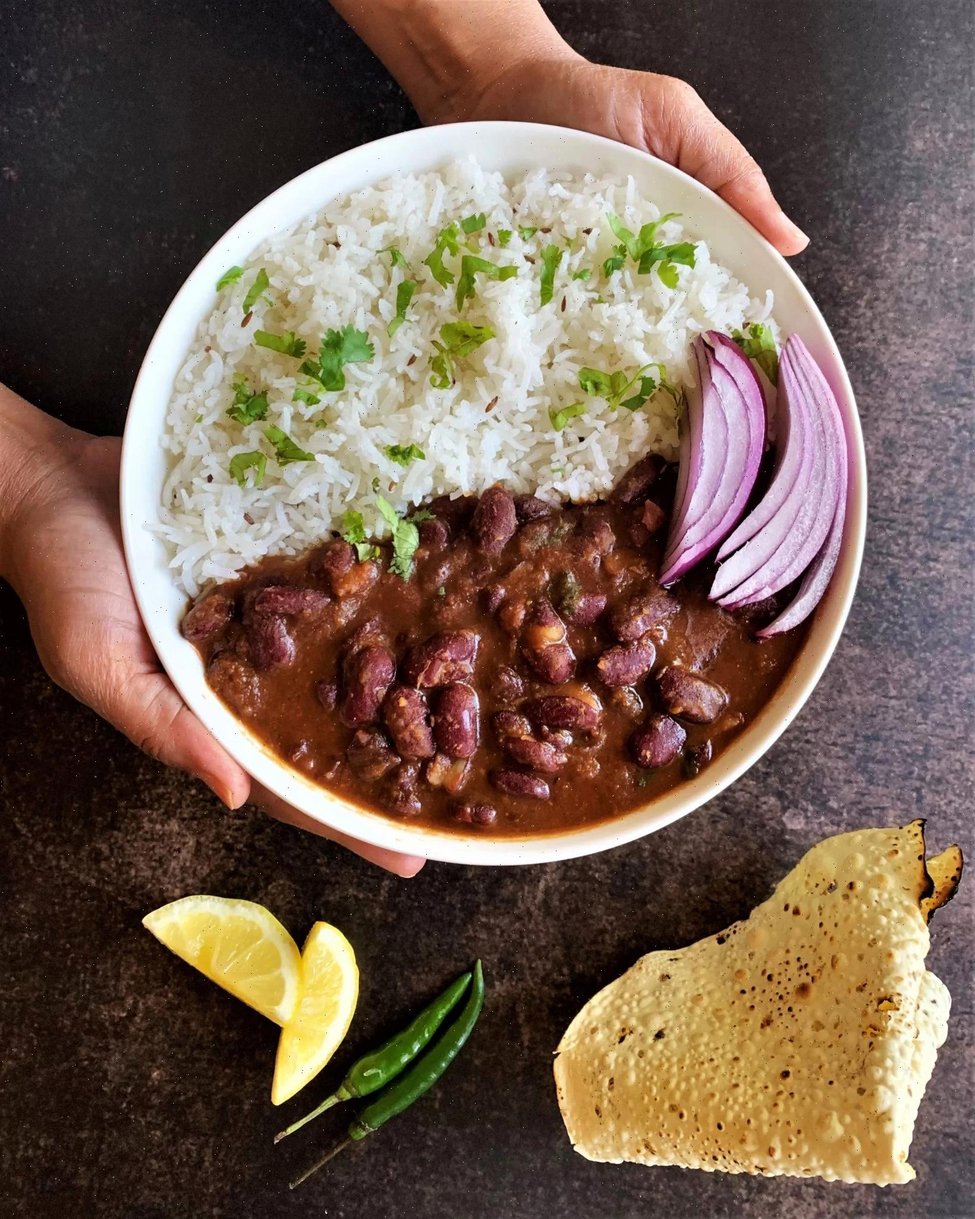rajma: (224, 564, 738, 836)
rice: (240, 186, 688, 488)
